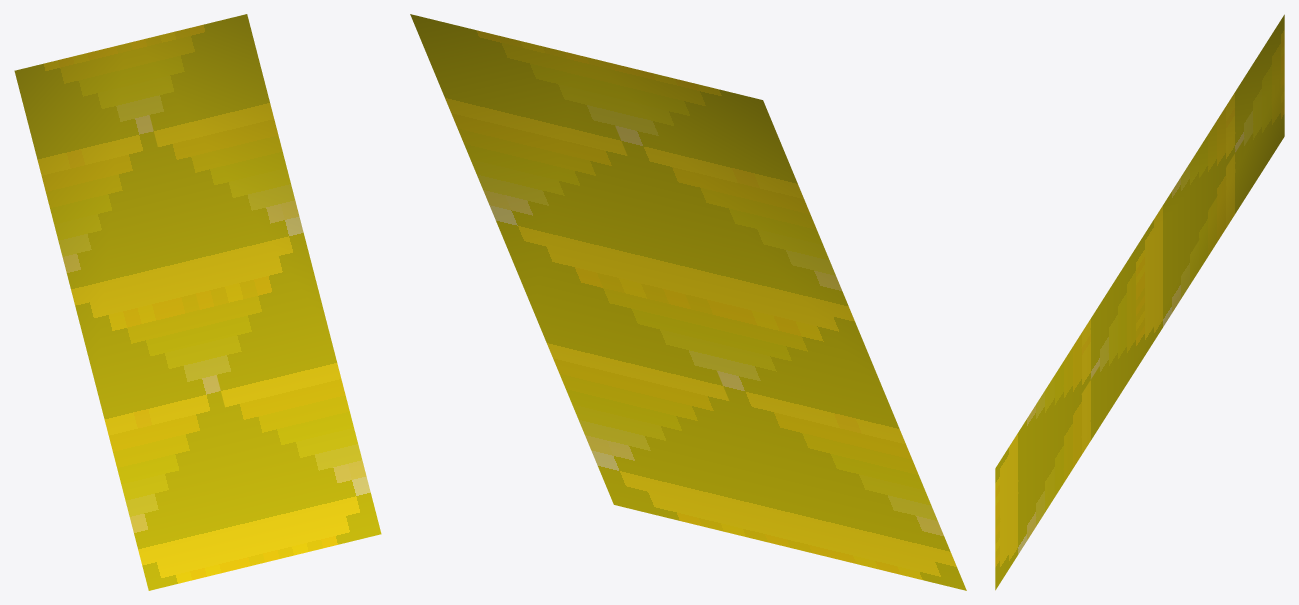
The picture shows the model from 3 angles, left to right: view 1: azimuth 30°, elevation 25°; view 2: azimuth 150°, elevation 25°; view 3: azimuth 270°, elevation 25°; orthographic projection. The views are drawn at different scales.
Bounding box in the file's own units: 1 × 1.73 × 1.
1 material, 1 textured.
